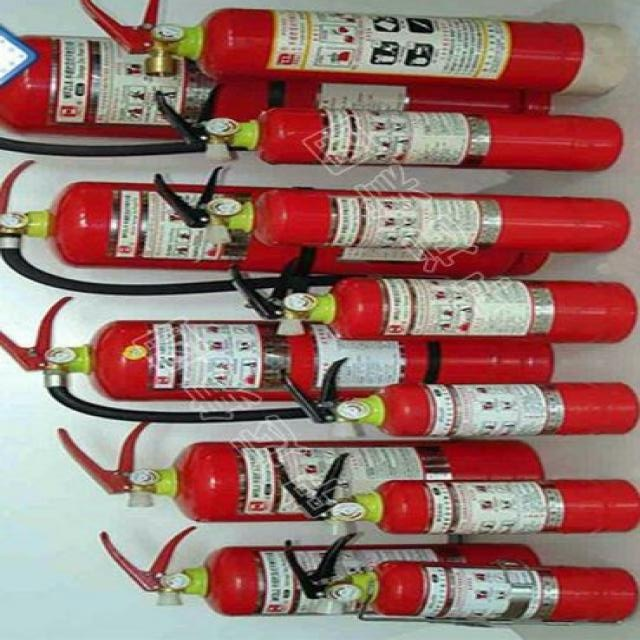fire extinguisher: (1, 2, 636, 625)
